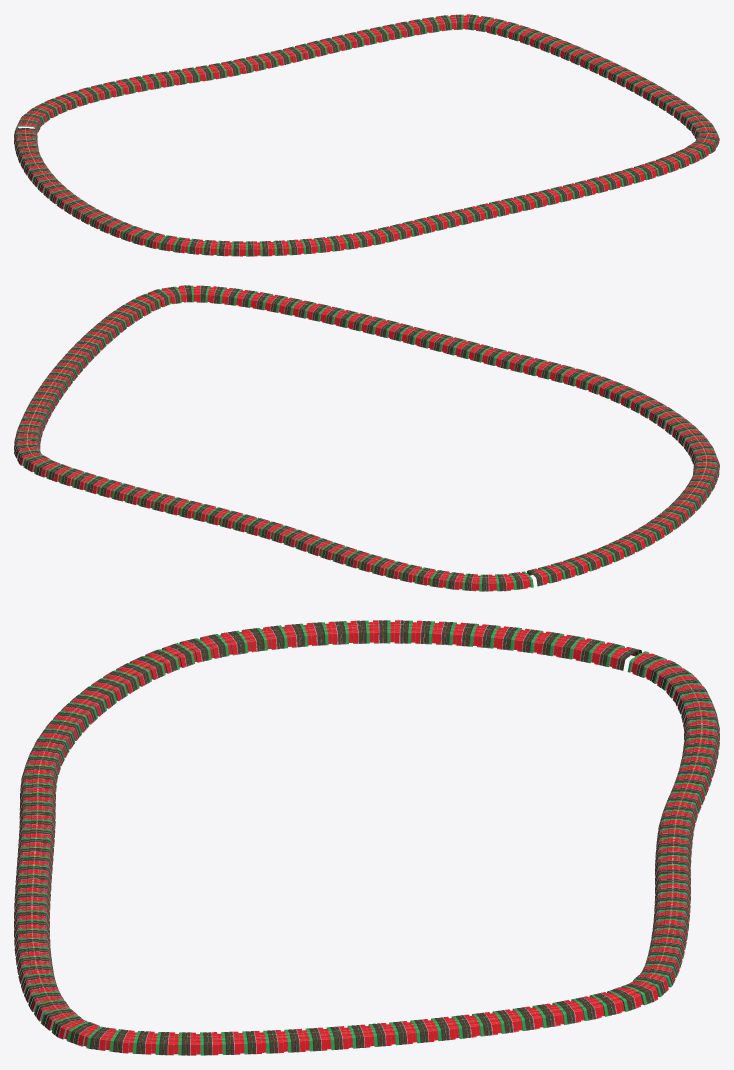
Rendered from track_work2_track.obj.
3 views of the same model, one above another, from view 1: azimuth 30°, elevation 25°; view 2: azimuth 150°, elevation 25°; view 3: azimuth 270°, elevation 25° (orthographic). The views are drawn at different scales.
Bounding box in the file's own units: 376 × 4.59 × 262.
2 materials, 2 textured.
